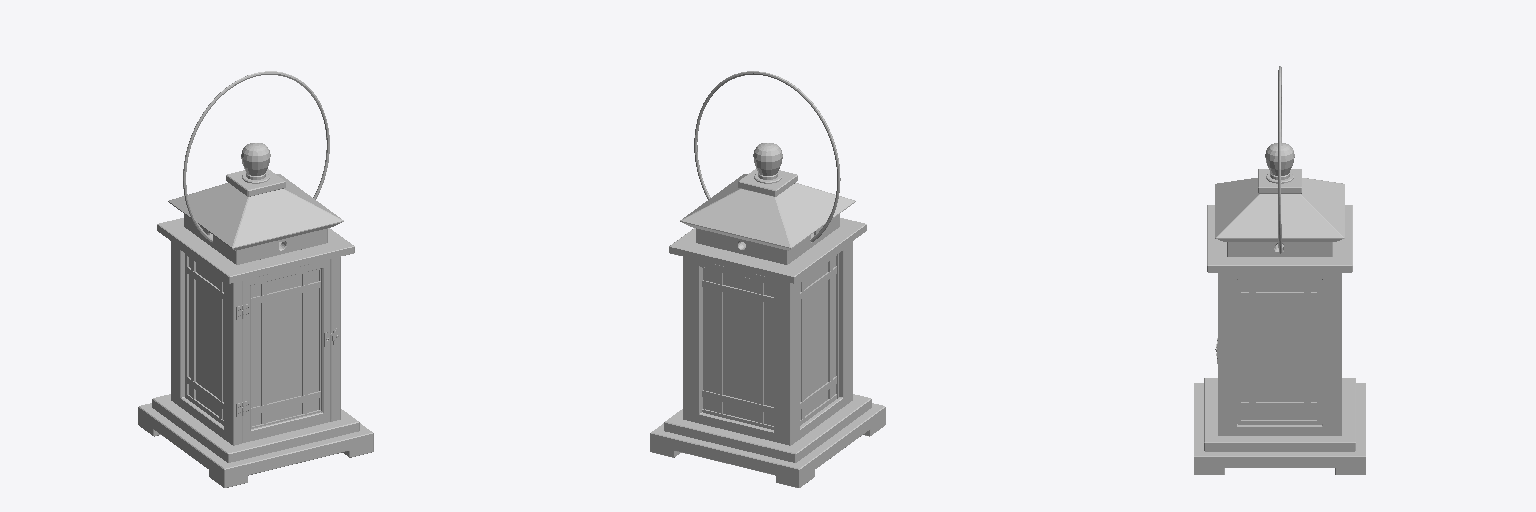
The model's file is lantern.obj.
The picture shows the model from 3 angles: view 1: azimuth 30°, elevation 25°; view 2: azimuth 150°, elevation 25°; view 3: azimuth 270°, elevation 25°; orthographic projection.
Visible parts, largest first — view 1: Cube.008_Cube.009, Cube.002_Cube.003, Cube.005_Cube.006, Cube.006_Cube.007, Cube.003_Cube.004, Cube.001_Cube.002, Cube.004_Cube.005, Cube.009_Cube.010, Circle.004_Circle.005, Cube.011_Cube.012, Cube.010_Cube.011, Cube.007_Cube.008 (+3 smaller); view 2: Cube.002_Cube.003, Cube.005_Cube.006, Cube.006_Cube.007, Cube.003_Cube.004, Cube.001_Cube.002, Cube.004_Cube.005, Cube.009_Cube.010, Circle.004_Circle.005, Cube.011_Cube.012, Cube.010_Cube.011, Cube.007_Cube.008, Cylinder.002 (+1 smaller); view 3: Cube.002_Cube.003, Cube.005_Cube.006, Cube.006_Cube.007, Cube.001_Cube.002, Cube.003_Cube.004, Cube.011_Cube.012, Cube.004_Cube.005, Cube.014_Cube.015, Cube.012_Cube.013, Cube.007_Cube.008, Cylinder.002, Circle.004_Circle.005 (+1 smaller).
Part boxes in pixels (bbox=[...]): Cube.008_Cube.009: bbox=[243, 259, 329, 442]; Cube.002_Cube.003: bbox=[171, 241, 340, 445]; Cube.005_Cube.006: bbox=[168, 174, 343, 250]; Cube.006_Cube.007: bbox=[138, 403, 373, 487]; Cube.003_Cube.004: bbox=[157, 218, 354, 283]; Cube.001_Cube.002: bbox=[152, 394, 359, 462]; Cube.004_Cube.005: bbox=[184, 214, 327, 264]; Cube.009_Cube.010: bbox=[261, 272, 308, 423]; Circle.004_Circle.005: bbox=[183, 71, 329, 241]; Cube.011_Cube.012: bbox=[191, 259, 222, 419]; Cube.010_Cube.011: bbox=[251, 281, 320, 414]; Cube.007_Cube.008: bbox=[226, 169, 285, 196]; Cube.002_Cube.003: bbox=[683, 241, 852, 445]; Cube.005_Cube.006: bbox=[680, 174, 855, 250]; Cube.006_Cube.007: bbox=[650, 403, 885, 487]; Cube.003_Cube.004: bbox=[669, 218, 866, 283]; Cube.001_Cube.002: bbox=[664, 394, 871, 462]; Cube.004_Cube.005: bbox=[696, 214, 839, 264]; Cube.009_Cube.010: bbox=[716, 272, 763, 423]; Circle.004_Circle.005: bbox=[694, 71, 840, 241]; Cube.011_Cube.012: bbox=[801, 259, 832, 419]; Cube.010_Cube.011: bbox=[702, 280, 773, 413]; Cube.007_Cube.008: bbox=[738, 169, 797, 196]; Cylinder.002: bbox=[753, 143, 782, 175]; Cube.002_Cube.003: bbox=[1218, 273, 1341, 435]; Cube.005_Cube.006: bbox=[1215, 178, 1344, 241]; Cube.006_Cube.007: bbox=[1194, 383, 1365, 474]; Cube.001_Cube.002: bbox=[1204, 378, 1355, 451]; Cube.003_Cube.004: bbox=[1207, 205, 1352, 272]; Cube.011_Cube.012: bbox=[1249, 282, 1310, 419]; Cube.004_Cube.005: bbox=[1227, 242, 1332, 256]; Cube.014_Cube.015: bbox=[1237, 279, 1322, 424]; Cube.012_Cube.013: bbox=[1241, 292, 1316, 408]; Cube.007_Cube.008: bbox=[1258, 169, 1301, 193]; Cylinder.002: bbox=[1265, 143, 1294, 175]; Circle.004_Circle.005: bbox=[1278, 66, 1281, 253].
Bounding box in the file's own units: 2.2 × 5.15 × 2.2.